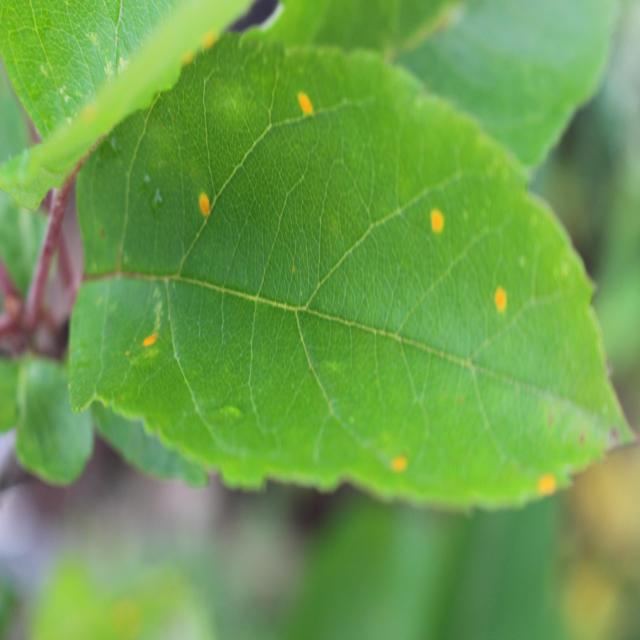Rust: (418, 187, 452, 266), (516, 467, 572, 513), (491, 256, 514, 342), (378, 446, 413, 488), (194, 177, 217, 240), (132, 325, 169, 361), (293, 78, 319, 128)
